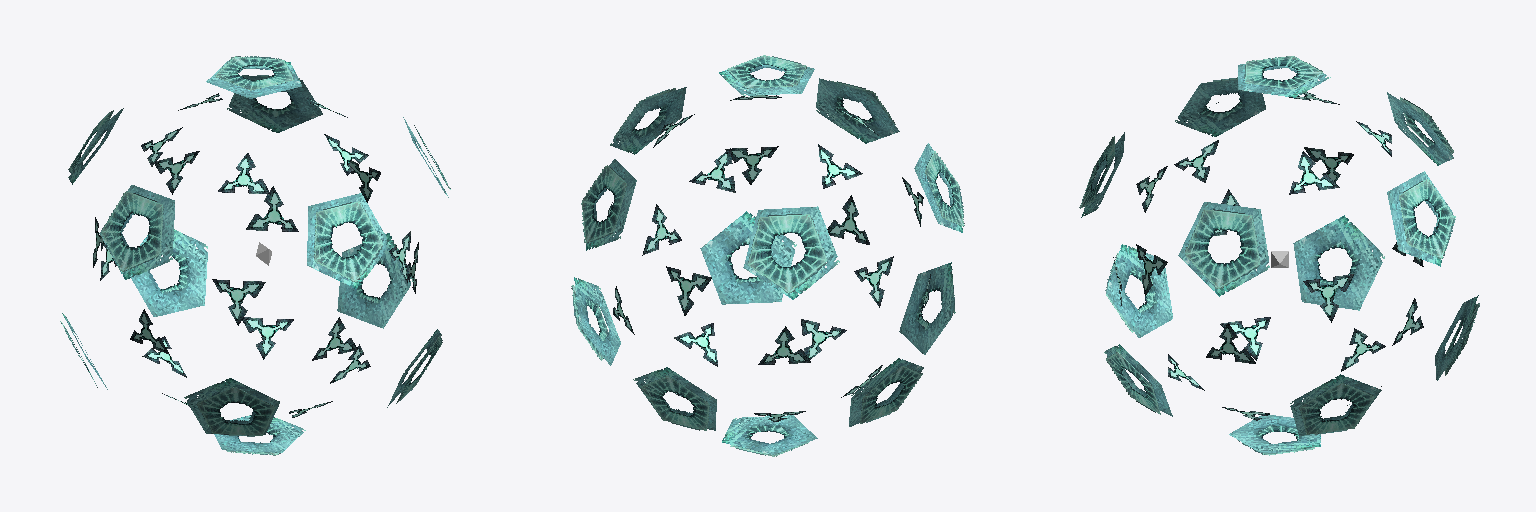
3 views of the same model, side by side, from view 1: azimuth 30°, elevation 25°; view 2: azimuth 150°, elevation 25°; view 3: azimuth 270°, elevation 25° (orthographic).
Visible parts, largest first — view 1: (null); view 2: (null); view 3: (null).
Boxes of the visible parts, x1=… form: (null): x1=60, y1=56, x2=450, y2=455; (null): x1=571, y1=55, x2=964, y2=456; (null): x1=1079, y1=56, x2=1479, y2=455.
Bounding box in the file's own units: 21.93 × 25.11 × 23.06.
Materials: 1 (1 with a texture image).